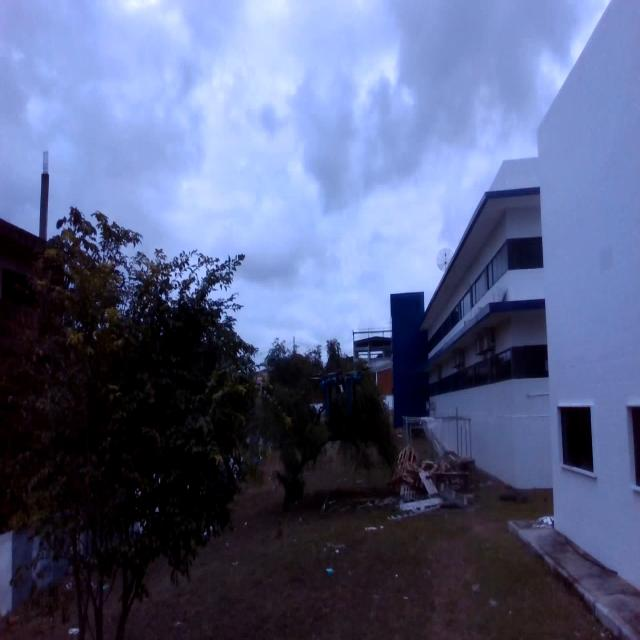-uav-: (318, 358, 360, 432)
